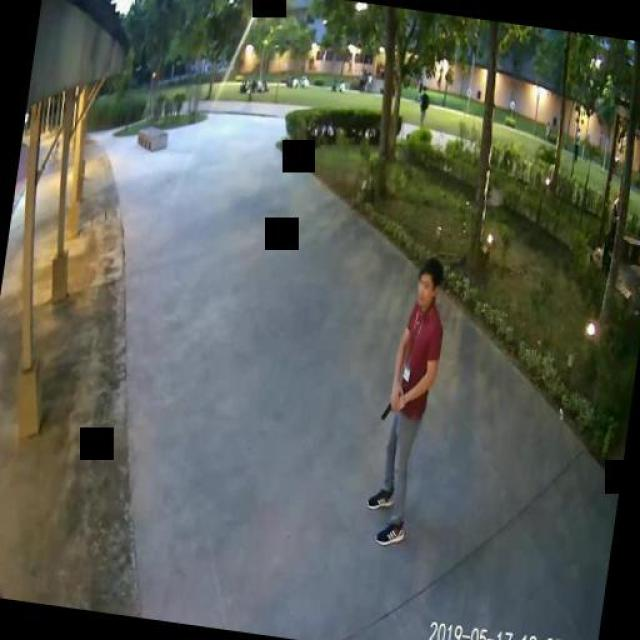gun: (379, 389, 401, 421)
